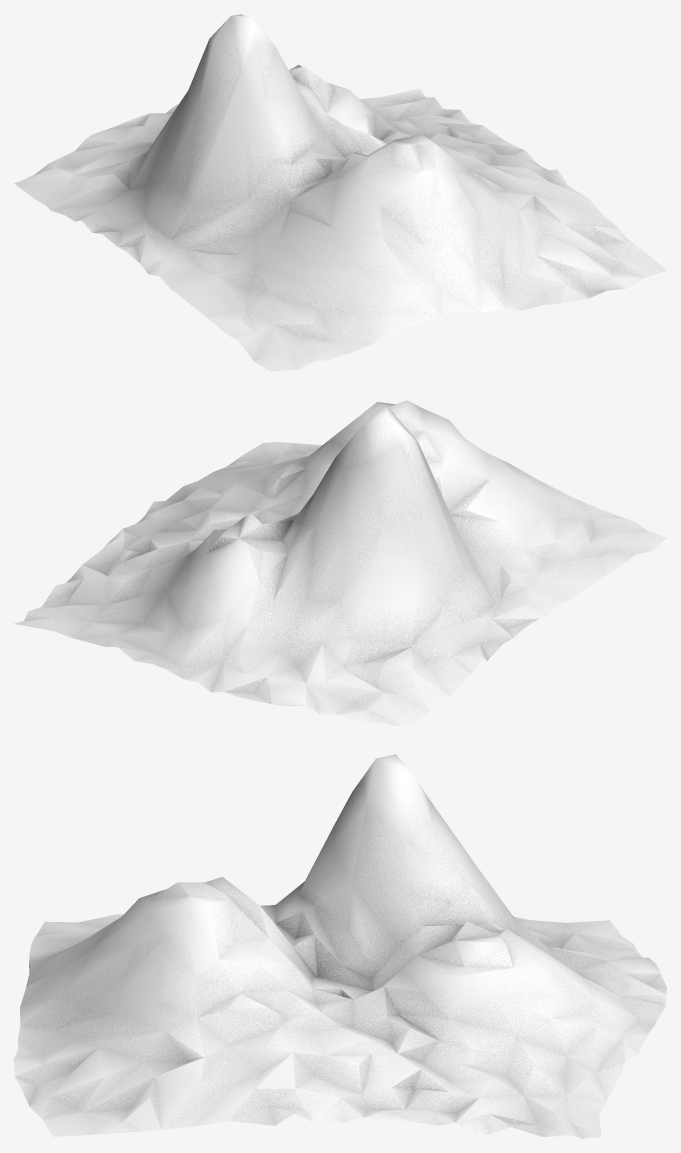
Rendered from Montanhas.fbx.
3 renders of one model, top to bottom at view 1: azimuth 30°, elevation 25°; view 2: azimuth 150°, elevation 25°; view 3: azimuth 270°, elevation 25°, orthographic. The views are drawn at different scales.
Parts seen in each view (by area): view 1: Montanhas; view 2: Montanhas; view 3: Montanhas.
Part boxes in pixels (<box>): Montanhas: <box>14,14,666,371</box>; Montanhas: <box>14,400,666,725</box>; Montanhas: <box>14,754,666,1138</box>.
Bounding box in the file's own units: 102 × 51.33 × 129.
